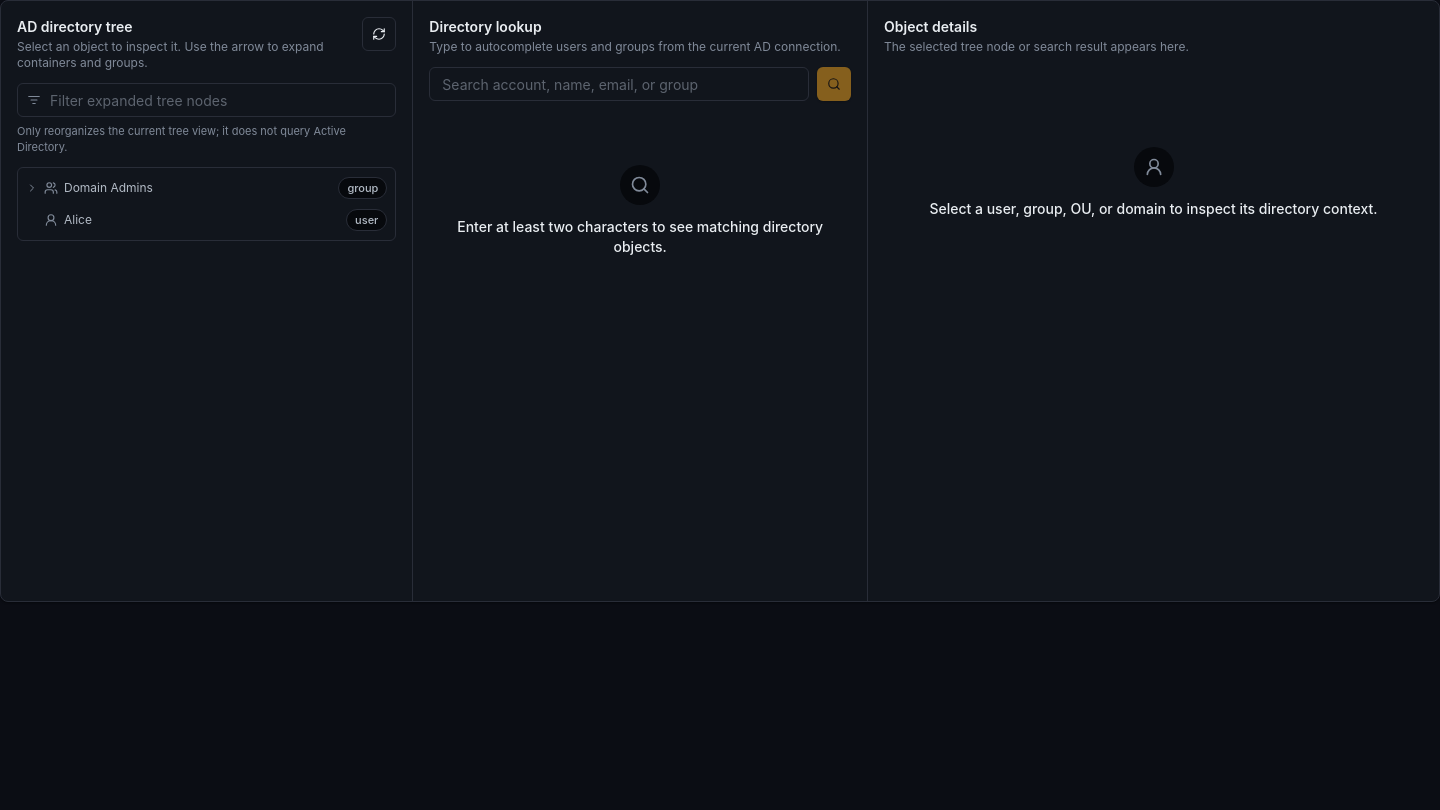
DirectoryExplorerWorkbench › searches users and groups together
Expected: the text "Domain Admins" is shown, [64,180,153,196]
Type "alice" into the dropdown labelled "Search account, name, email, or group" at (619, 84), box [429,67,809,101]
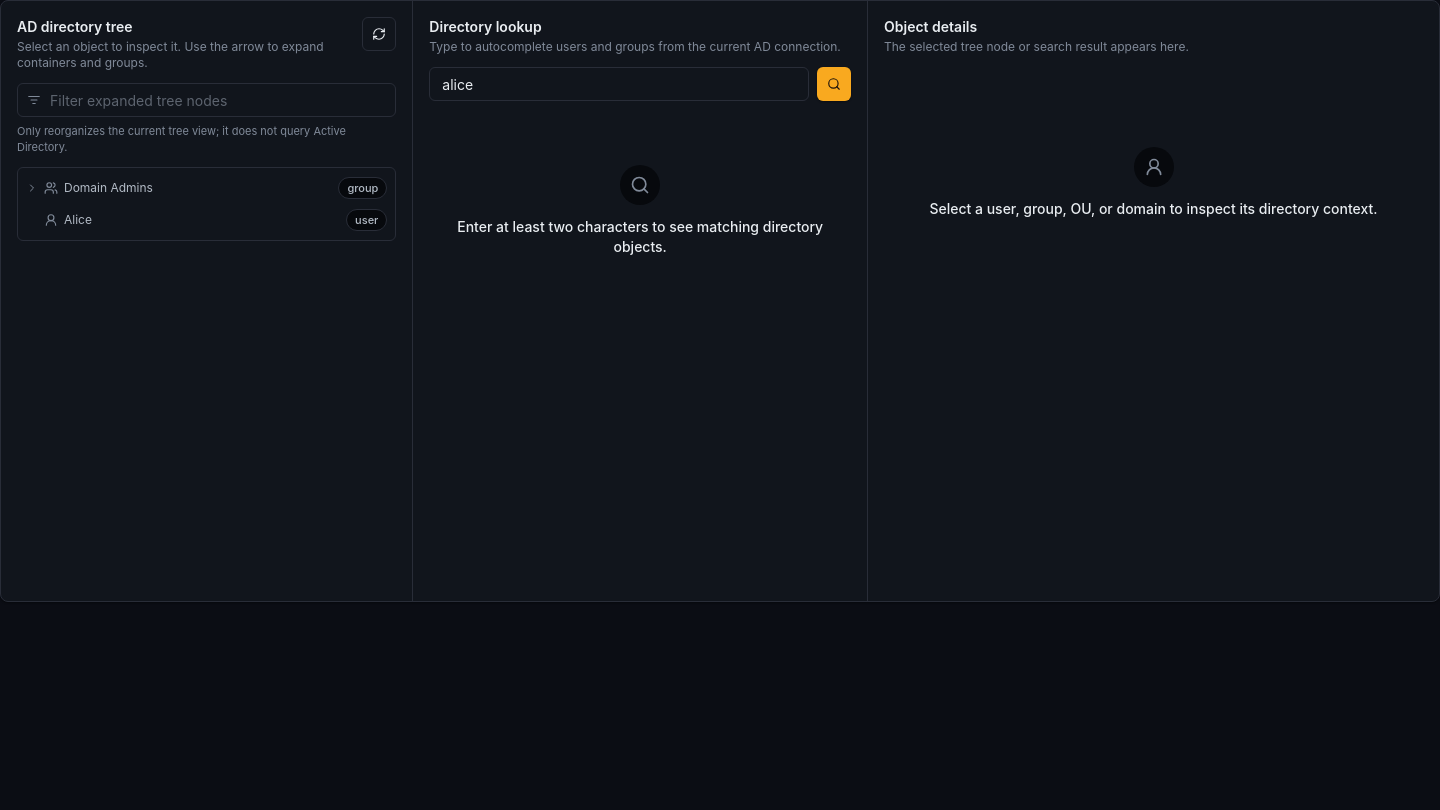
Click the button named "Search entire directory" at (834, 84), box [817,67,851,101]
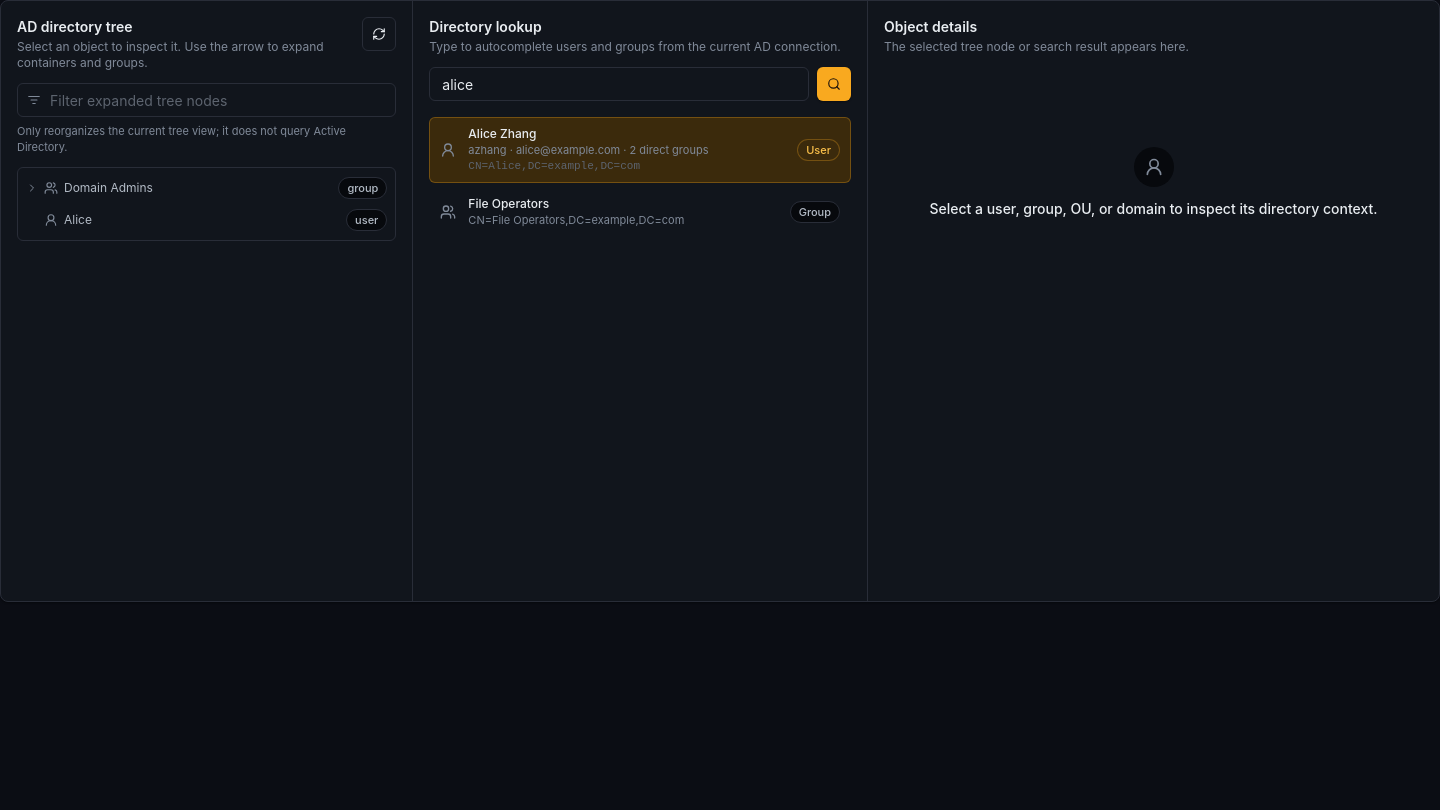
Expected: the text "Alice Zhang" is shown, [468,126,536,141]
Expected: the text "CN=Alice,DC=example,DC=com" is shown, [468,160,640,172]
Expected: the text "File Operators" is shown, [468,196,549,211]
